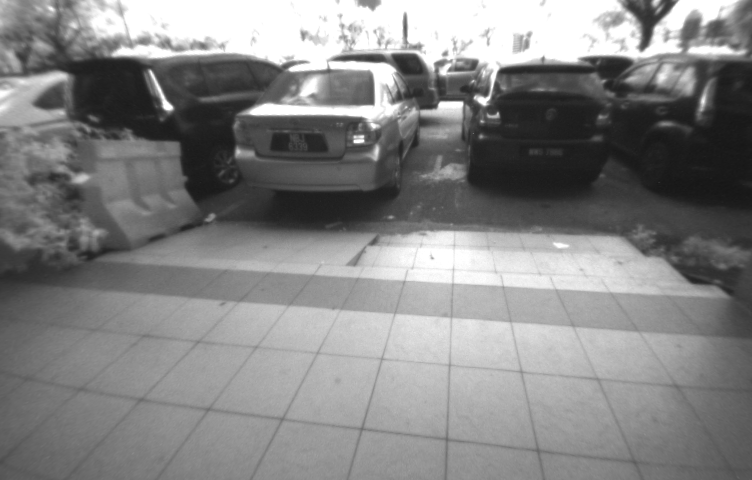down_steps: (345, 217, 734, 309)
mixed_gradient: (304, 221, 392, 298)
